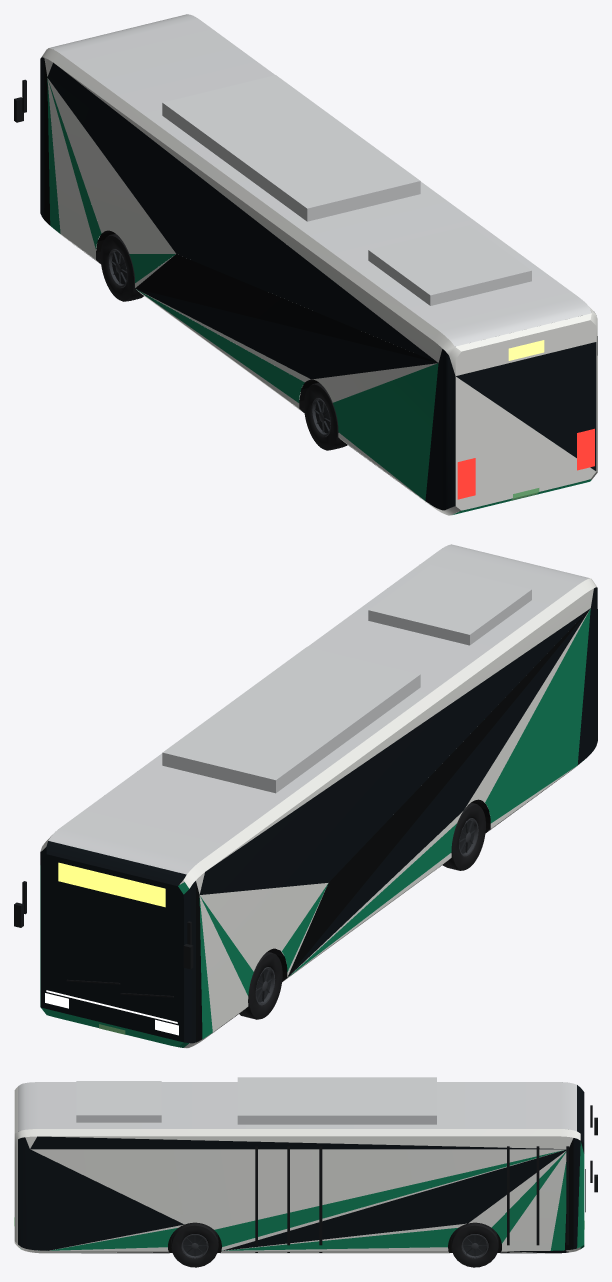
File: gz_bus_lod2.glb
3 views of the same model, one above another, from view 1: azimuth 30°, elevation 25°; view 2: azimuth 150°, elevation 25°; view 3: azimuth 270°, elevation 25° (orthographic). The views are drawn at different scales.
Parts seen in each view (by area): view 1: vehicle_lod2; view 2: vehicle_lod2; view 3: vehicle_lod2.
Boxes of the visible parts, x1,y1,x2,y2 form: vehicle_lod2: (14, 14, 597, 515); vehicle_lod2: (14, 544, 597, 1048); vehicle_lod2: (14, 1077, 597, 1267).
Bounding box in the file's own units: 2.96 × 3.41 × 12.3.
